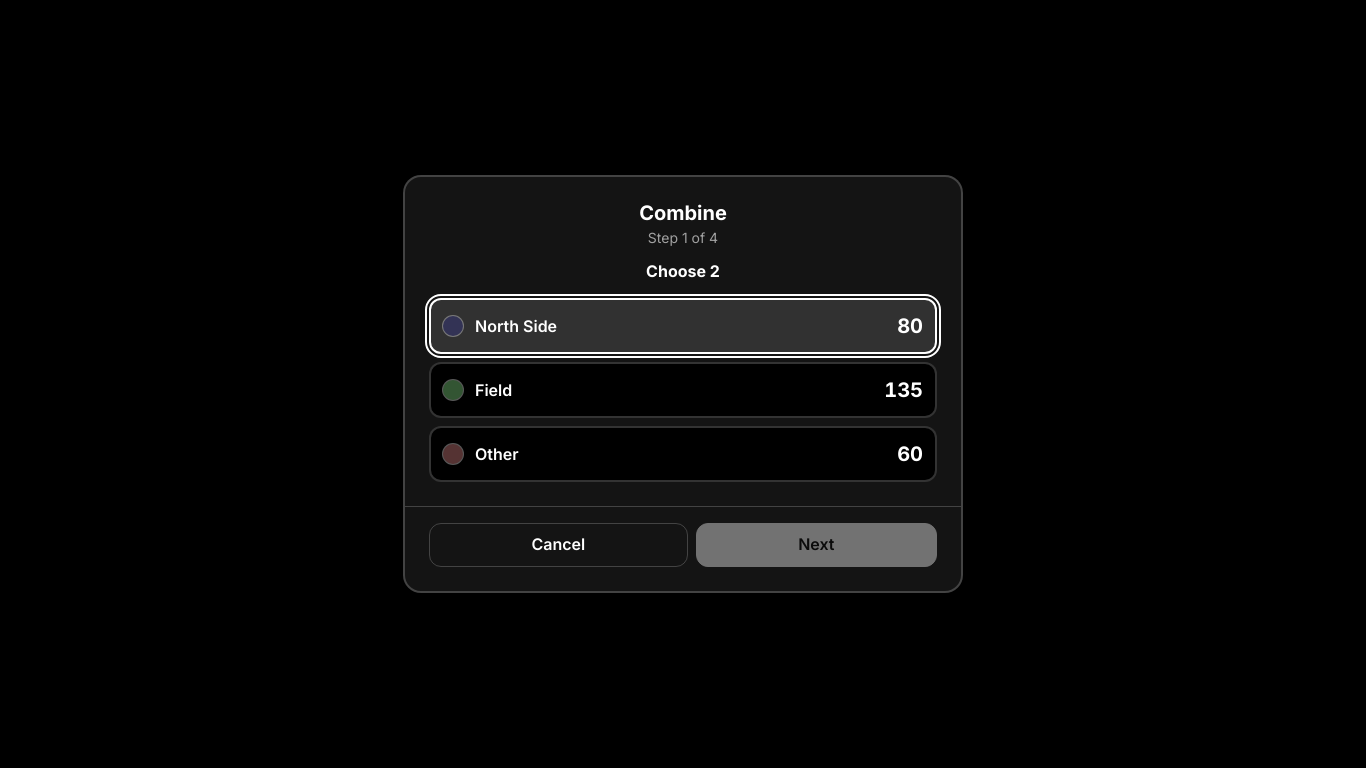
CombineEntriesSheet › allows only the declared number of sources
The image size is (1366, 768).
Click the button "Field 135" at coordinates (494, 390), box [429,362,937,418]
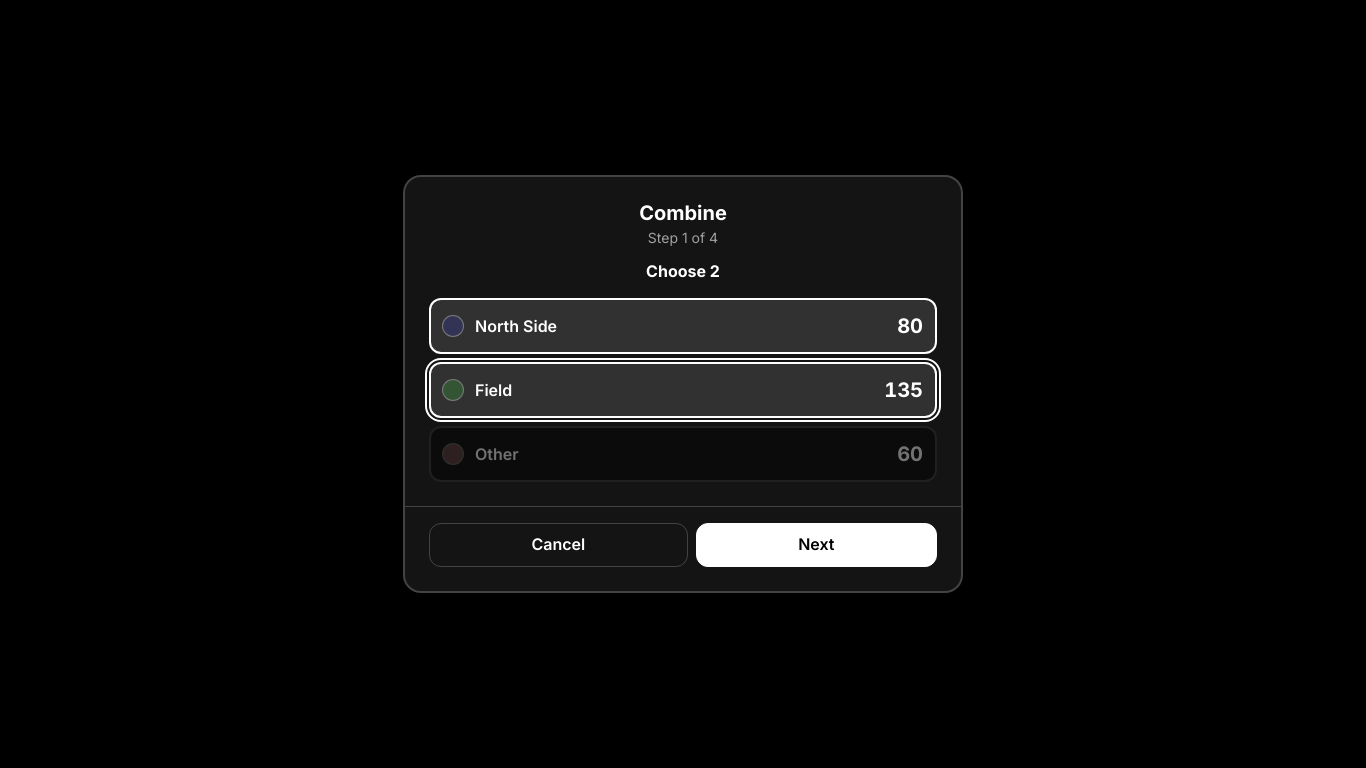
Check: the button "Other 60" is disabled, box [429,426,937,482]
